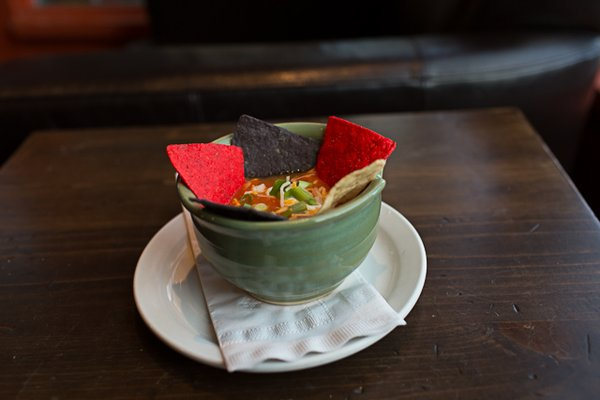sushi: (174, 114, 392, 307)
